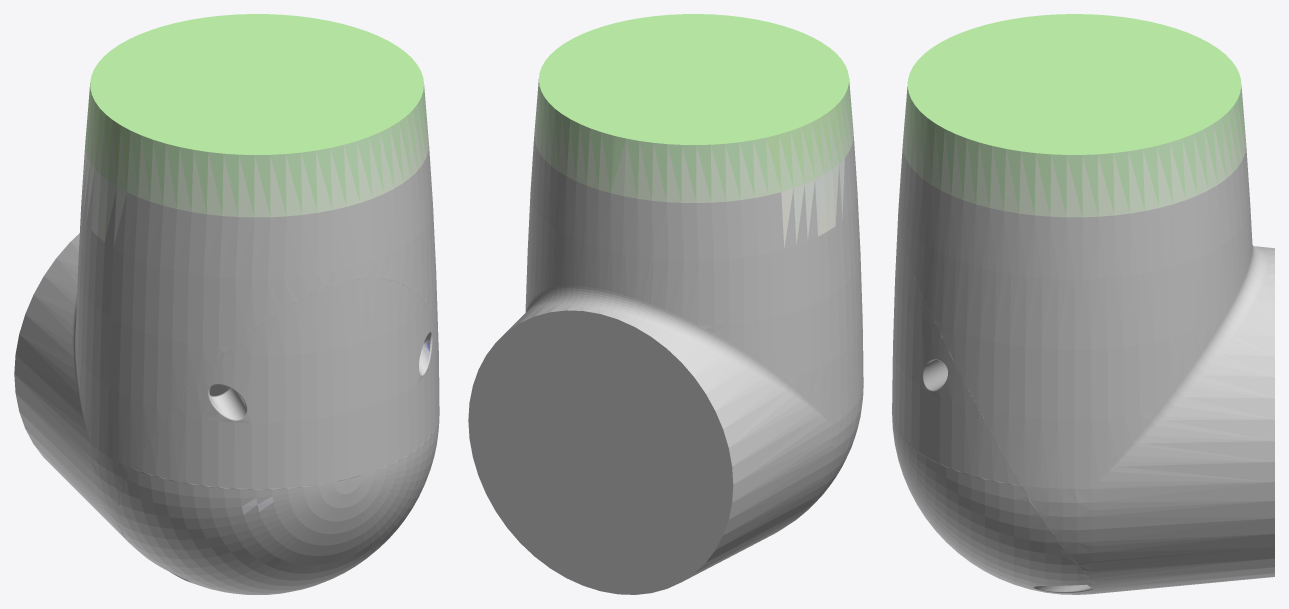
The model's file is FanucCRX5IALink3.dae.
3 renders of one model, left to right at view 1: azimuth 30°, elevation 25°; view 2: azimuth 150°, elevation 25°; view 3: azimuth 270°, elevation 25°, orthographic. The views are drawn at different scales.
Visible parts, largest first — view 1: Fanuc5iALink3; view 2: Fanuc5iALink3; view 3: Fanuc5iALink3.
Part boxes in pixels (x1,y1,x2,y2): Fanuc5iALink3: (14,14,439,594); Fanuc5iALink3: (468,14,863,594); Fanuc5iALink3: (892,14,1274,594).
Size of the model in its own units: 0.122 by 0.128 by 0.182.
